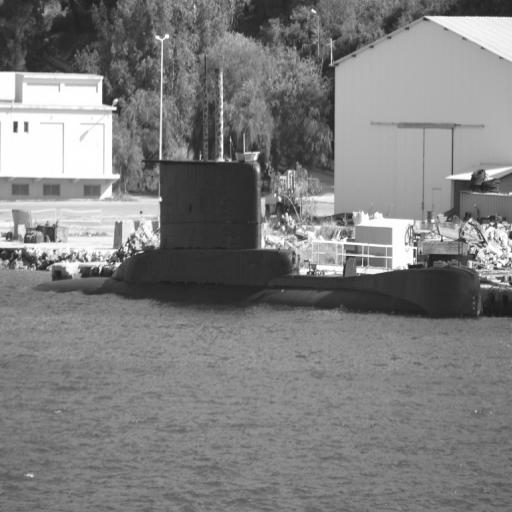submarine: (66, 140, 486, 317)
